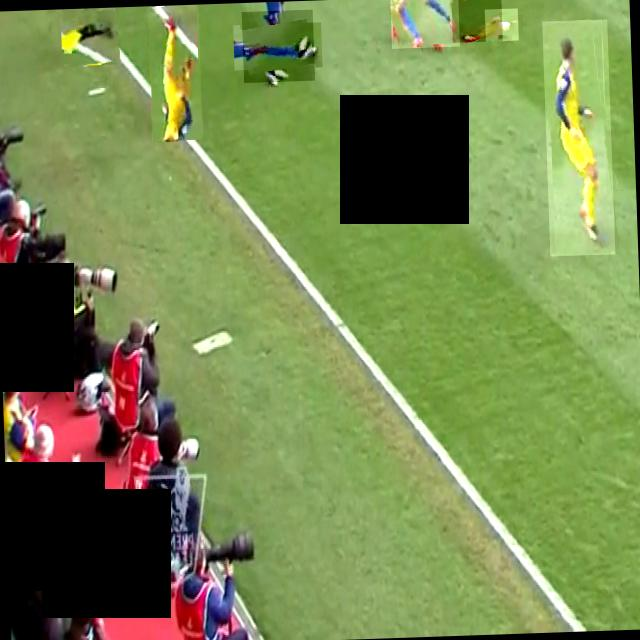ball: (484, 8, 518, 41)
referee: (60, 7, 120, 66)
soccer-player: (542, 19, 615, 256), (147, 4, 203, 141), (242, 9, 314, 82), (389, 0, 459, 48), (450, 0, 502, 42)
